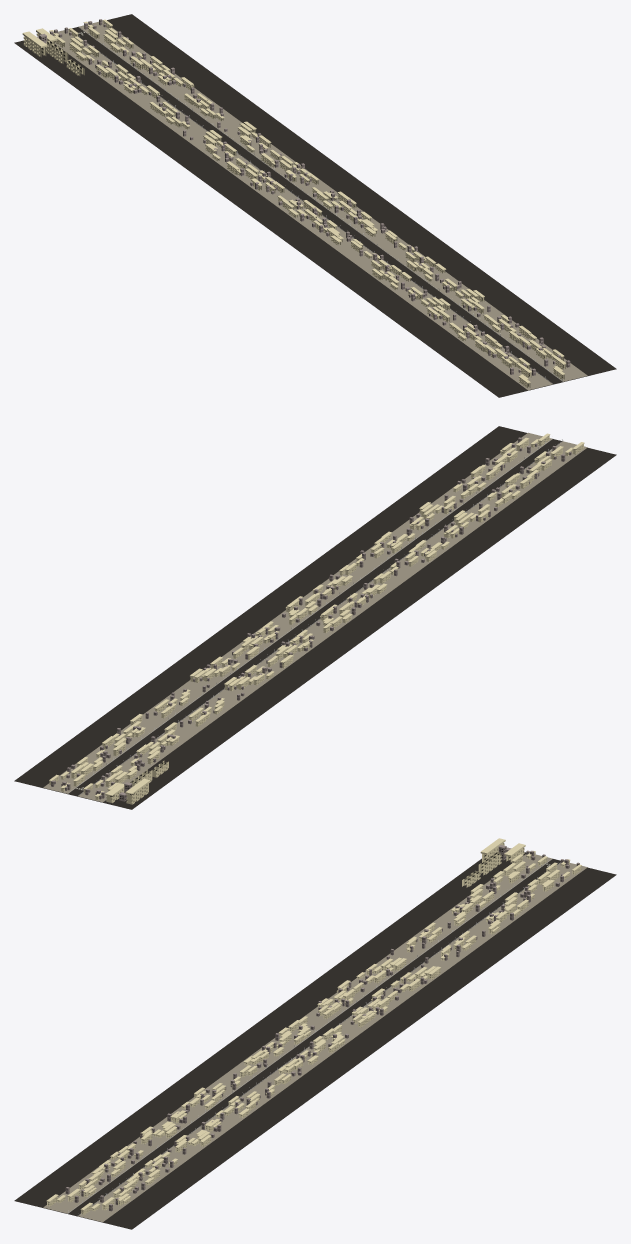
File: map.fbx
3 views of the same model, one above another, from view 1: azimuth 30°, elevation 25°; view 2: azimuth 150°, elevation 25°; view 3: azimuth 330°, elevation 25° (orthographic).
Parts seen in each view (by area): view 1: Plane.005, Plane.001, Plane, Cube.003; view 2: Plane.005, Plane.001, Plane, Cube.003; view 3: Plane.005, Plane.001, Plane, Cube.003.
Boxes of the visible parts, x1=… form: Plane.005: x1=14, y1=14, x2=616, y2=397; Plane.001: x1=55, y1=20, x2=587, y2=390; Plane: x1=68, y1=27, x2=562, y2=384; Cube.003: x1=68, y1=26, x2=563, y2=383; Plane.005: x1=14, y1=426, x2=616, y2=809; Plane.001: x1=43, y1=432, x2=587, y2=802; Plane: x1=68, y1=439, x2=562, y2=796; Cube.003: x1=69, y1=438, x2=563, y2=795; Plane.005: x1=14, y1=852, x2=616, y2=1229; Plane.001: x1=43, y1=854, x2=587, y2=1222; Plane: x1=68, y1=859, x2=560, y2=1215; Cube.003: x1=67, y1=858, x2=560, y2=1215.
Bounding box in the file's own units: 16377 × 1709 × 116844.
